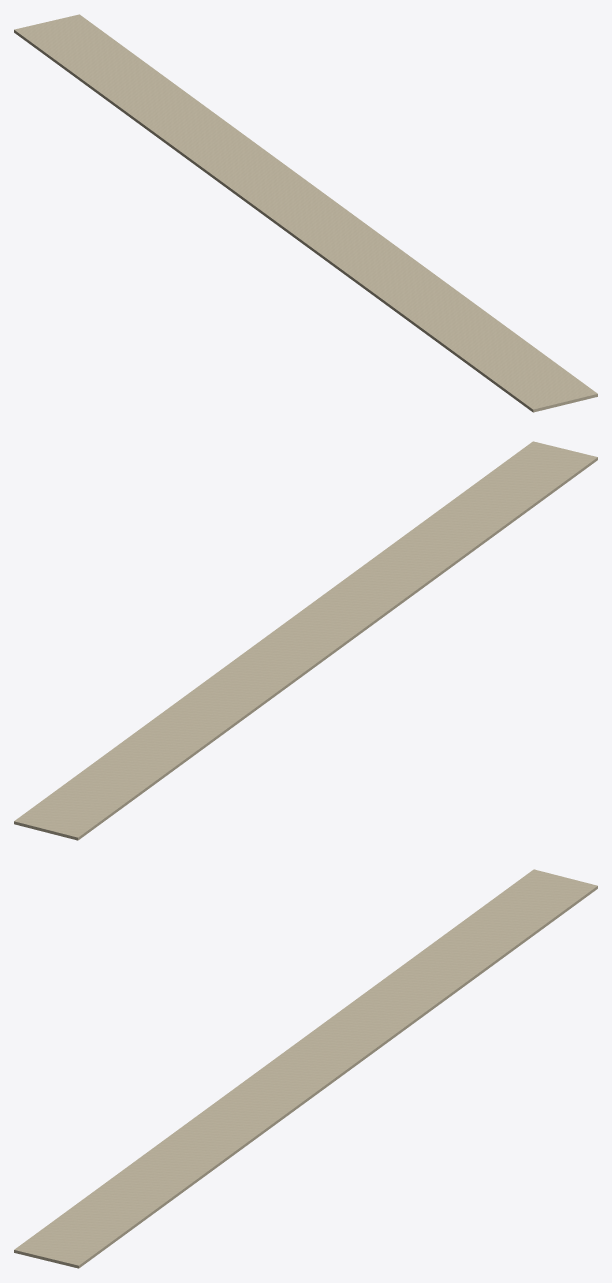
File: SERVICE_D09_SA_inner_02__floor.glb
The picture shows the model from 3 angles, top to bottom: view 1: azimuth 30°, elevation 25°; view 2: azimuth 150°, elevation 25°; view 3: azimuth 330°, elevation 25°; orthographic projection.
Parts seen in each view (by area): view 1: SERVICE_D09_SA_inner_02__floor__warm_stone; view 2: SERVICE_D09_SA_inner_02__floor__warm_stone; view 3: SERVICE_D09_SA_inner_02__floor__warm_stone.
Part boxes in pixels (x1=…): SERVICE_D09_SA_inner_02__floor__warm_stone: x1=14, y1=14, x2=597, y2=412; SERVICE_D09_SA_inner_02__floor__warm_stone: x1=14, y1=441, x2=597, y2=840; SERVICE_D09_SA_inner_02__floor__warm_stone: x1=14, y1=869, x2=597, y2=1268.
Bounding box in the file's own units: 5.5 × 0.24 × 76.29.
1 material, 1 textured.
